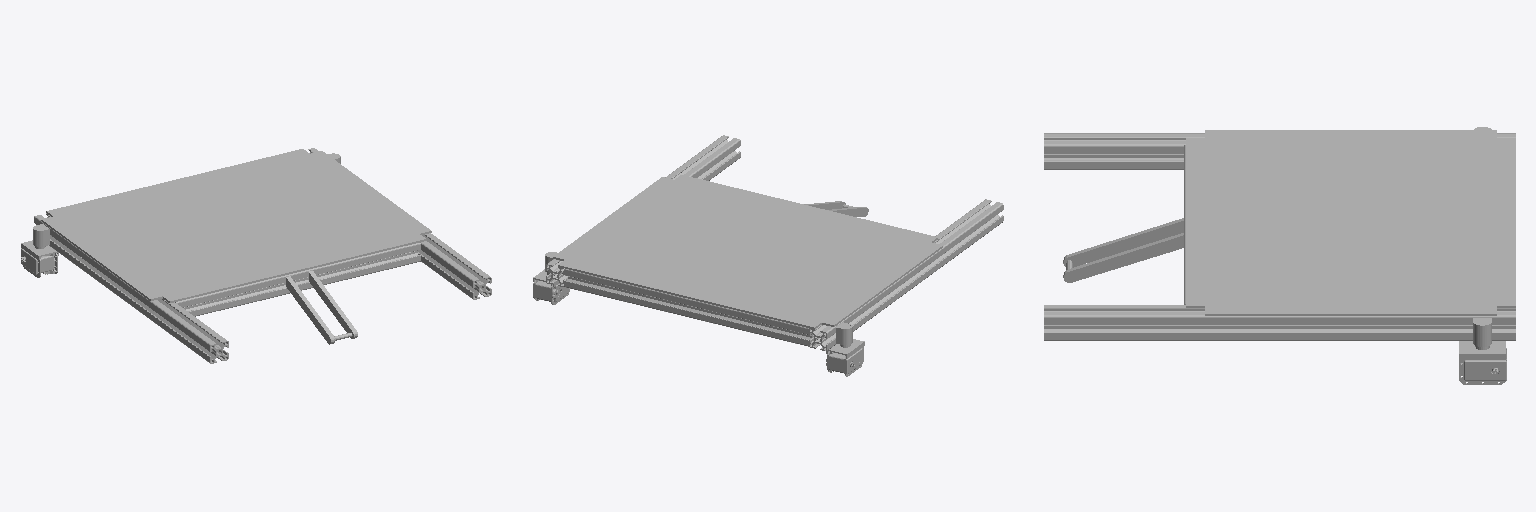
robot.urdf — assembly:
<?xml version="1.0" encoding="utf-8"?>
<!-- This URDF was automatically created by SolidWorks to URDF Exporter! Originally created by [author] ([email redacted]) 
     Commit Version: 1.5.1-0-g916b5db  Build Version: 1.5.7152.31018
     For more information, please see http://wiki.ros.org/sw_urdf_exporter -->
<robot
  name="assembly">
  <link
    name="base_link">
    <inertial>
      <origin
        xyz="0.0276418278157166 -0.472599056033966 0.0312550060354526"
        rpy="0 0 0" />
      <mass
        value="2.26299534521544" />
      <inertia
        ixx="0.0236090944163617"
        ixy="4.1867044136422E-19"
        ixz="3.29690604315082E-08"
        iyy="0.0191899669560079"
        iyz="-1.27406422046969E-05"
        izz="0.0424983502674055" />
    </inertial>
    <visual>
      <origin
        xyz="0 0 0"
        rpy="0 0 0" />
      <geometry>
        <mesh
          filename="package://assembly/meshes/base_link.STL" />
      </geometry>
      <material
        name="">
        <color
          rgba="0.752941176470588 0.752941176470588 0.752941176470588 1" />
      </material>
    </visual>
    <collision>
      <origin
        xyz="0 0 0"
        rpy="0 0 0" />
      <geometry>
        <mesh
          filename="package://assembly/meshes/base_link.STL" />
      </geometry>
    </collision>
  </link>
  <link
    name="Front">
    <inertial>
      <origin
        xyz="0.748912591622953 0.0286580370215912 -0.0076879403161924"
        rpy="0 0 0" />
      <mass
        value="0.238517930637711" />
      <inertia
        ixx="0.000167259537096277"
        ixy="3.60360586378309E-08"
        ixz="1.41320378530861E-08"
        iyy="0.000298967074255198"
        iyz="4.4925660841495E-08"
        izz="0.000167267290735446" />
    </inertial>
    <visual>
      <origin
        xyz="0 0 0"
        rpy="0 0 0" />
      <geometry>
        <mesh
          filename="package://assembly/meshes/Front.STL" />
      </geometry>
      <material
        name="">
        <color
          rgba="1 1 1 1" />
      </material>
    </visual>
    <collision>
      <origin
        xyz="0 0 0"
        rpy="0 0 0" />
      <geometry>
        <mesh
          filename="package://assembly/meshes/Front.STL" />
      </geometry>
    </collision>
  </link>
  <joint
    name="F"
    type="continuous">
    <origin
      xyz="0 0 0"
      rpy="0 0 -1.5708" />
    <parent
      link="base_link" />
    <child
      link="Front" />
    <axis
      xyz="0 1 0" />
    <limit
      effort="0"
      velocity="7" />
  </joint>
  <link
    name="Left">
    <inertial>
      <origin
        xyz="0.296888127665138 0.295984366114182 -0.007957437142839"
        rpy="0 0 0" />
      <mass
        value="0.193332140392744" />
      <inertia
        ixx="0.000136727340239242"
        ixy="2.71560268218277E-08"
        ixz="-1.40578298137989E-08"
        iyy="0.000252977808750875"
        iyz="-3.82901815421634E-08"
        izz="0.000136735670304281" />
    </inertial>
    <visual>
      <origin
        xyz="0 0 0"
        rpy="0 0 0" />
      <geometry>
        <mesh
          filename="package://assembly/meshes/Left.STL" />
      </geometry>
      <material
        name="">
        <color
          rgba="1 1 1 1" />
      </material>
    </visual>
    <collision>
      <origin
        xyz="0 0 0"
        rpy="0 0 0" />
      <geometry>
        <mesh
          filename="package://assembly/meshes/Left.STL" />
      </geometry>
    </collision>
  </link>
  <joint
    name="L"
    type="continuous">
    <origin
      xyz="0 0 0"
      rpy="0 0 -1.5708" />
    <parent
      link="base_link" />
    <child
      link="Left" />
    <axis
      xyz="0 1 0" />
    <limit
      effort="0"
      velocity="7" />
  </joint>
  <link
    name="Right">
    <inertial>
      <origin
        xyz="0.296881279400685 -0.240853226390767 -0.00796734007692887"
        rpy="0 0 0" />
      <mass
        value="0.193332140392743" />
      <inertia
        ixx="0.000136740693825247"
        ixy="-4.28193963397101E-08"
        ixz="-1.1425434775343E-08"
        iyy="0.000252977808750875"
        iyz="1.92376477870876E-08"
        izz="0.000136722316718276" />
    </inertial>
    <visual>
      <origin
        xyz="0 0 0"
        rpy="0 0 0" />
      <geometry>
        <mesh
          filename="package://assembly/meshes/Right.STL" />
      </geometry>
      <material
        name="">
        <color
          rgba="1 1 1 1" />
      </material>
    </visual>
    <collision>
      <origin
        xyz="0 0 0"
        rpy="0 0 0" />
      <geometry>
        <mesh
          filename="package://assembly/meshes/Right.STL" />
      </geometry>
    </collision>
  </link>
  <joint
    name="R"
    type="continuous">
    <origin
      xyz="0 0 0"
      rpy="0 0 -1.5708" />
    <parent
      link="base_link" />
    <child
      link="Right" />
    <axis
      xyz="0 1 0" />
    <limit
      effort="0"
      velocity="7" />
  </joint>
</robot>

--- Render facts (derived) ---
Views: 3 orthographic renders of the robot side by side, from view 1: azimuth 30°, elevation 25°; view 2: azimuth 150°, elevation 25°; view 3: azimuth 270°, elevation 25°.
Robot: assembly — 4 links, 3 joints (3 continuous); root link base_link; default pose: all joints at 0.
Visible links, largest first — view 1: base_link; view 2: base_link; view 3: base_link.
Link boxes in pixels (x1,y1,x2,y2): base_link: (21,148,491,363); base_link: (533,135,1003,376); base_link: (1044,127,1515,384).
Size in the robot's own frame: 0.5255 by 0.5 by 0.0726 metres.
1 mesh visuals loaded from 4 distinct referenced files (1 binary STL); not drawn: 3 (reference not matched to a file when rendering).